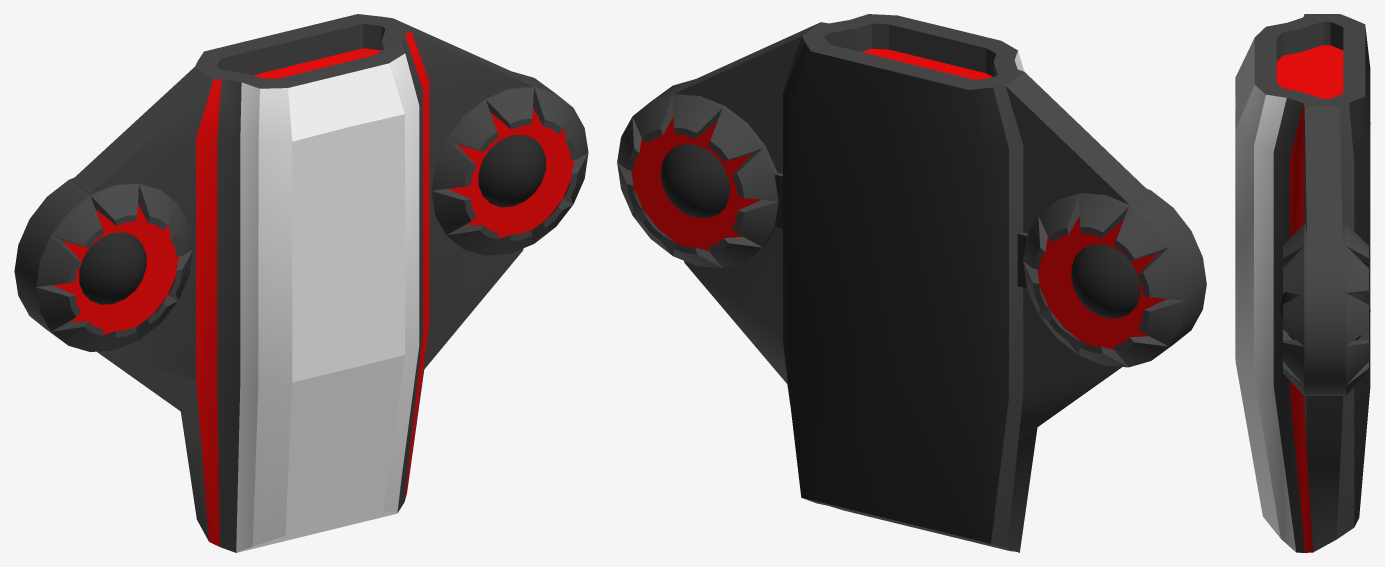
File: cargoPlane.obj
3 renders of one model, left to right at view 1: azimuth 30°, elevation 25°; view 2: azimuth 150°, elevation 25°; view 3: azimuth 270°, elevation 25°, orthographic. The views are drawn at different scales.
Visible parts, largest first — view 1: Box001, Cylinder029, Sphere002; view 2: Box001, Cylinder029, Sphere002; view 3: Box001, Cylinder029, Sphere002.
Boxes of the visible parts, x1,y1,x2,y2 form: Box001: (71,14,531,552); Cylinder029: (14,72,588,352); Sphere002: (79,134,545,304); Box001: (675,14,1148,552); Cylinder029: (617,79,1206,367); Sphere002: (661,144,1140,318); Box001: (1235,14,1370,552); Cylinder029: (1283,223,1368,395); Sphere002: (1279,123,1370,340).
Size of the model in its own units: 4.04 by 3.32 by 0.8948.
